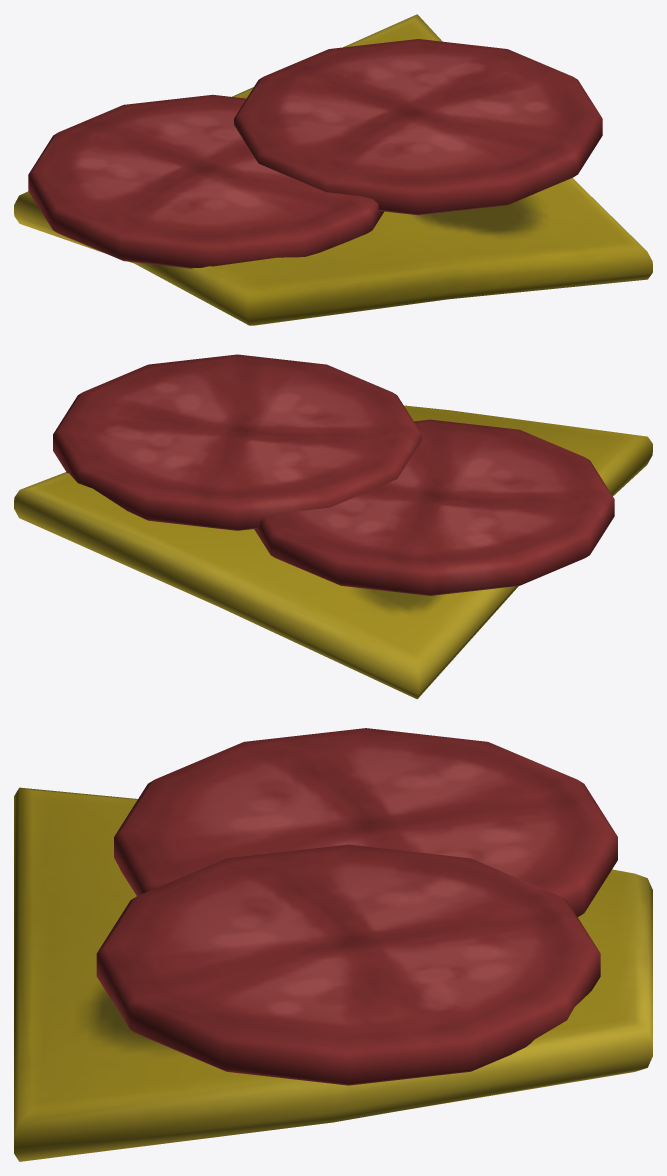
File: MSH_Q_J.fbx
The picture shows the model from 3 angles, top to bottom: view 1: azimuth 30°, elevation 25°; view 2: azimuth 150°, elevation 25°; view 3: azimuth 270°, elevation 25°; orthographic projection. The views are drawn at different scales.
Visible parts, largest first — view 1: MSH_Q_J; view 2: MSH_Q_J; view 3: MSH_Q_J.
Boxes of the visible parts, x1,y1,x2,y2 form: MSH_Q_J: (14,14,652,325); MSH_Q_J: (14,354,652,699); MSH_Q_J: (14,728,652,1161).
Size of the model in its own units: 16.77 by 13.1 by 3.73.
1 material, 1 textured.
